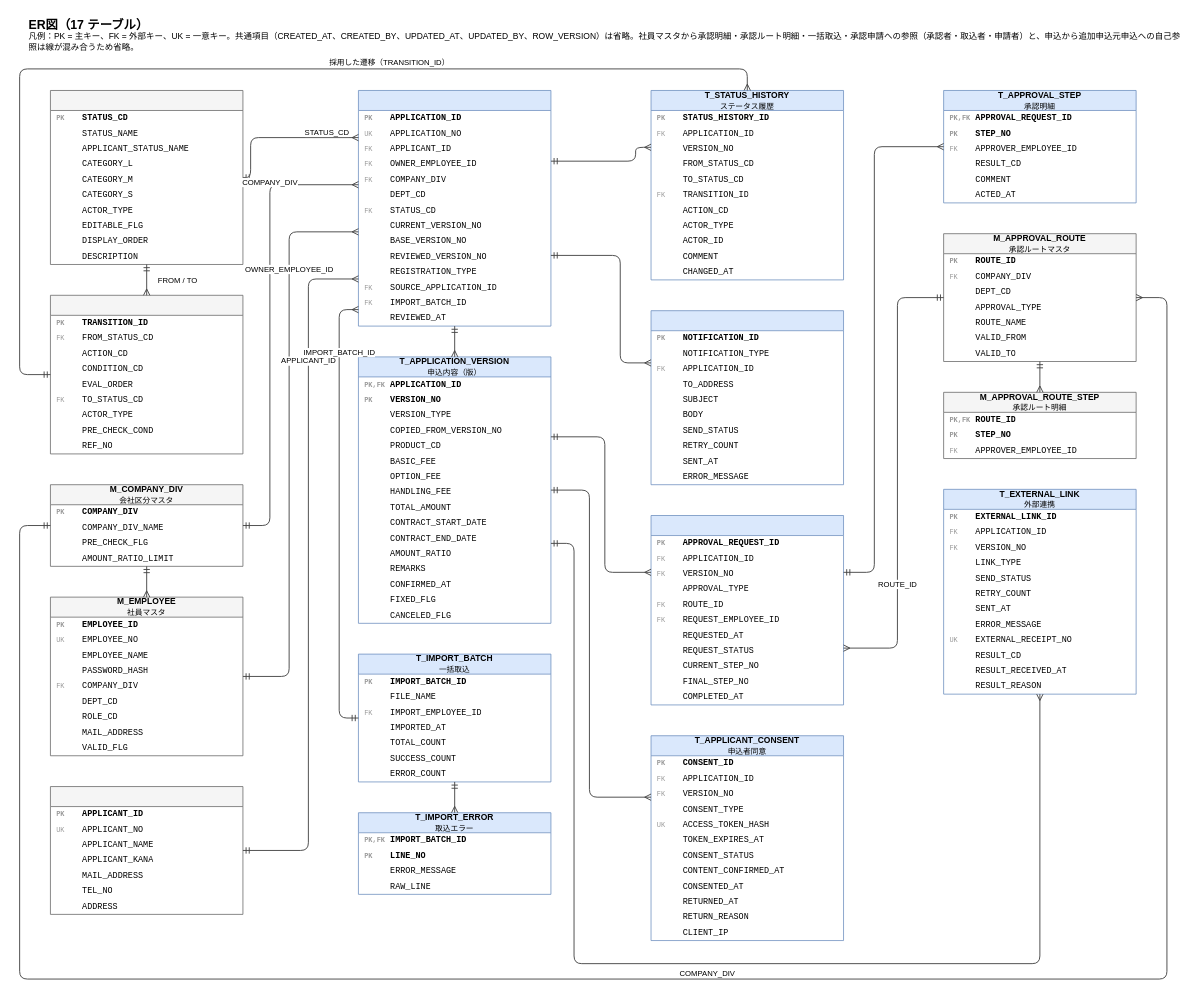
This 1196x999 diagram has some shape labels left out. Here are the shapes that lost their labels. From the top down, the box of each, then its label:
(50, 90, 243, 264): M_STATUS ステータスマスタ
(358, 90, 551, 326): T_APPLICATION 申込
(50, 295, 243, 454): M_STATUS_TRANSITION ステータス遷移マスタ
(650, 310, 844, 485): T_NOTIFICATION 通知
(650, 515, 844, 705): T_APPROVAL_REQUEST 承認申請
(50, 786, 243, 914): M_APPLICANT 申込者マスタ
